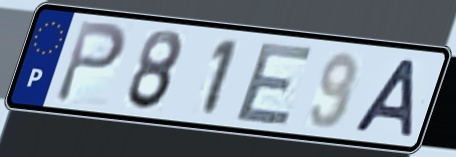1: (203, 38, 241, 118)
8: (123, 27, 186, 114)
9: (308, 49, 365, 132)
A: (349, 56, 421, 140)
E: (231, 41, 318, 127)
P: (51, 18, 129, 106)
